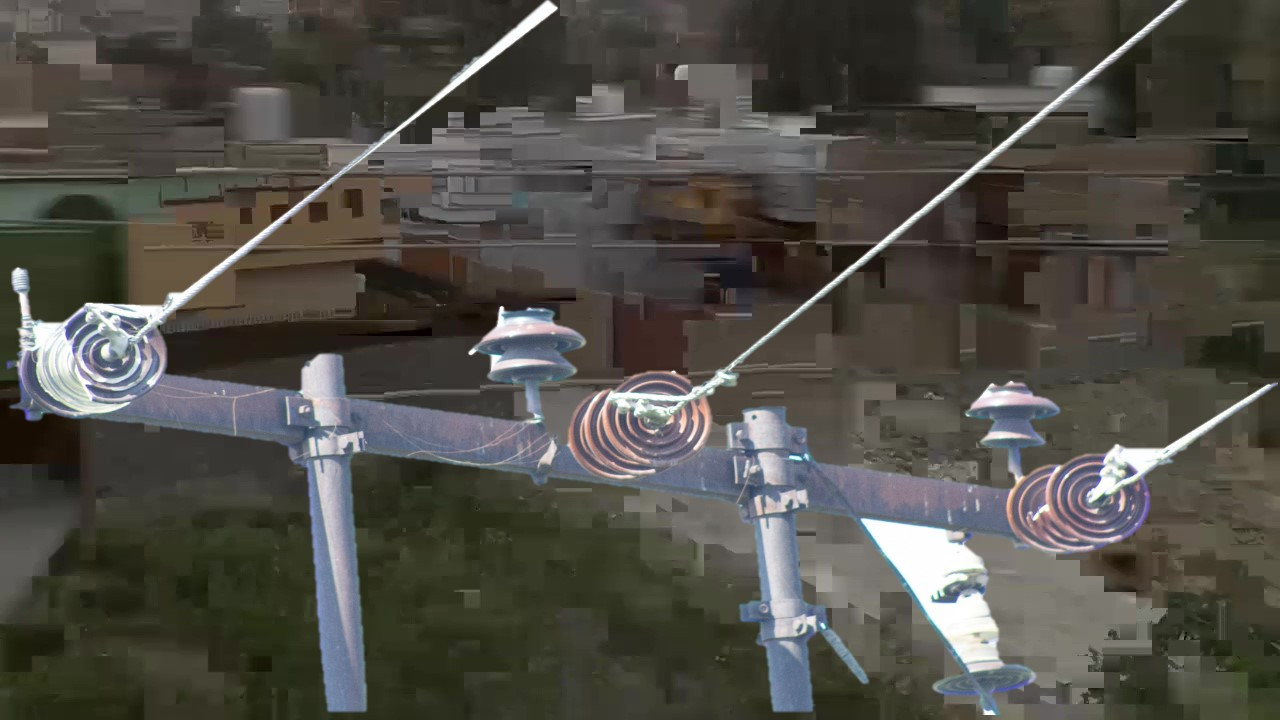defect_disc: (57, 298, 171, 409)
insulator_disc: (599, 362, 715, 474), (1042, 445, 1156, 551)
